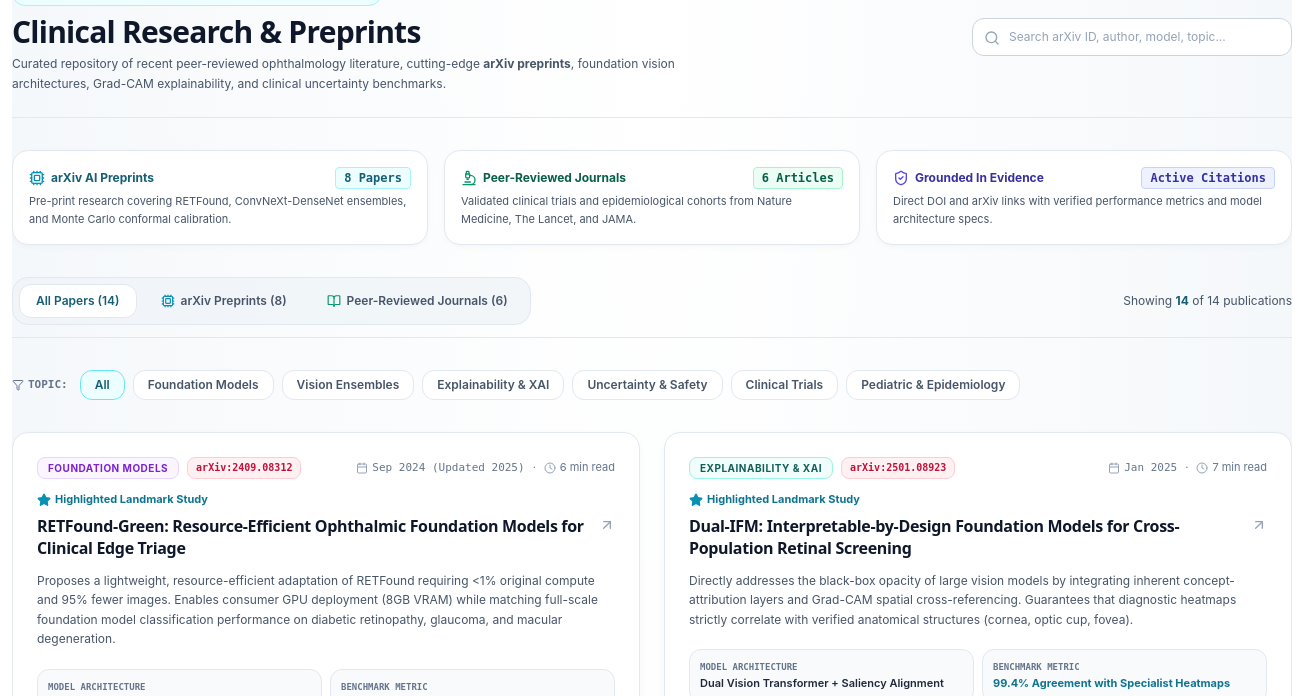
it: Clinical Research & Preprints Page › filters publications by publication type (arXiv vs Journal)
This screenshot has width=1304, height=696.
// Click arXiv preprints filter tab
Click the button "arXiv Preprints (8)".
click(224, 301)  # box [145,285,303,317]
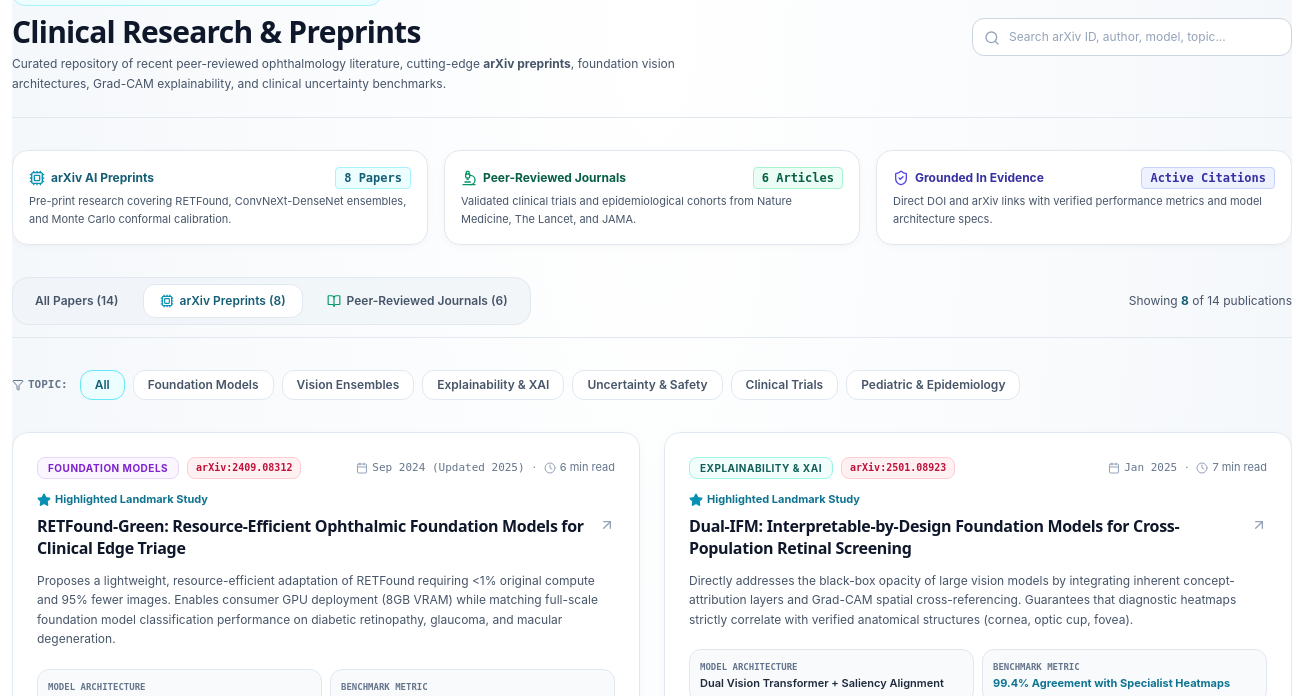
Expected: the text "RETFound-Green" is shown, [37,515,584,559]
Expected: the text "The Lancet Global Health" is not shown
// Click Peer-Reviewed Journals tab
Click the button "Peer-Reviewed Journals (6)".
click(417, 301)  # box [311,285,524,317]
(page scrolled)
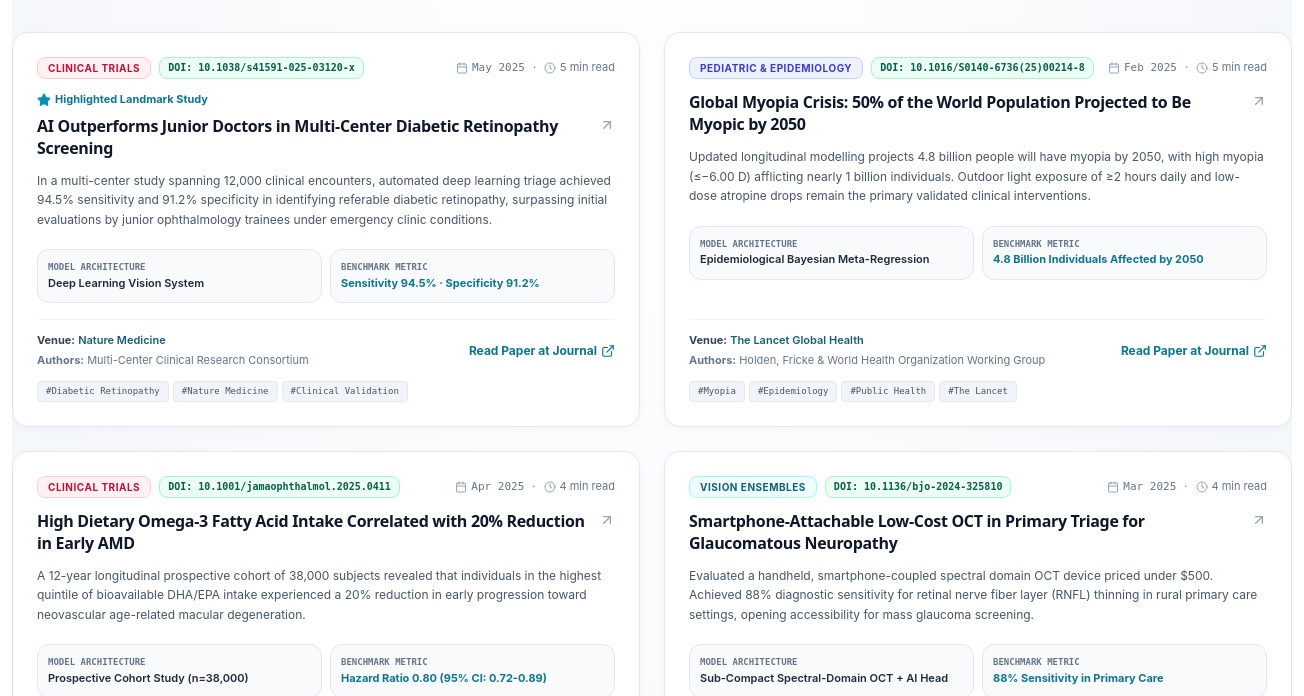
Result: the text "The Lancet Global Health" is shown at [730,333,864,347]
Result: the link "RETFound-Green" is gone
